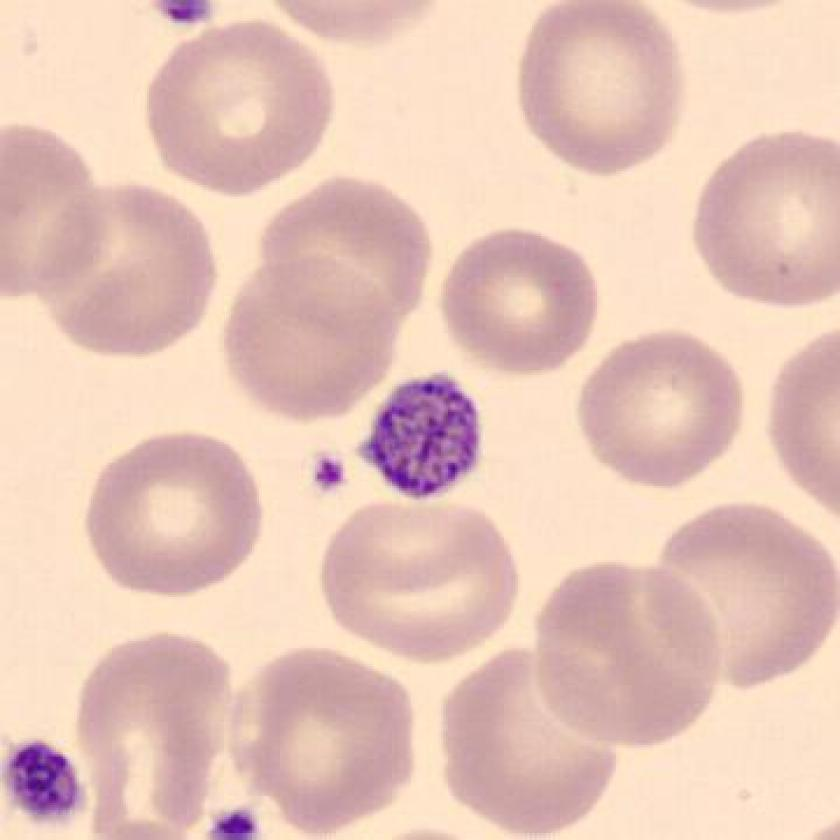platelets: (353, 360, 496, 515), (1, 732, 108, 840)
